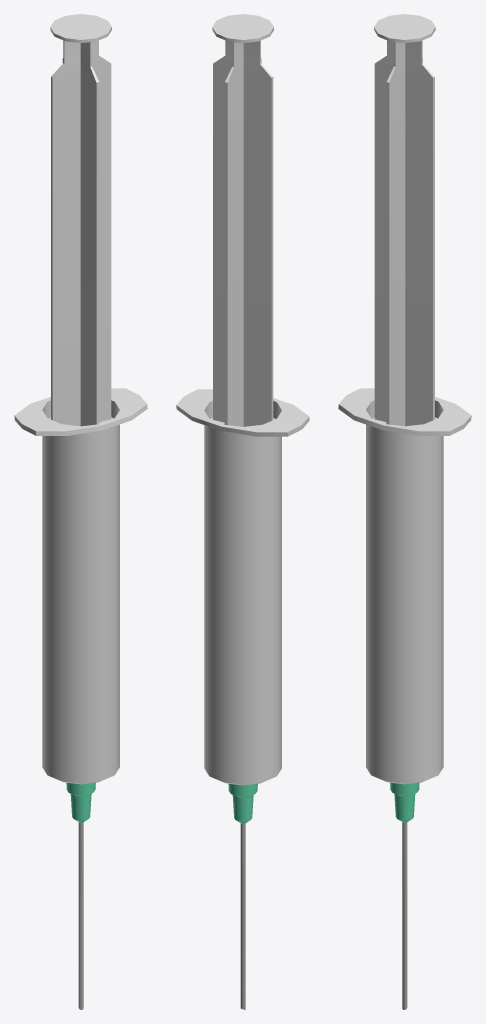
Rendered from Model_Syringe.fbx.
3 renders of one model, left to right at view 1: azimuth 30°, elevation 25°; view 2: azimuth 150°, elevation 25°; view 3: azimuth 330°, elevation 25°, orthographic.
Visible parts, largest first — view 1: Model_Syringe, Model_Syringe_Stick; view 2: Model_Syringe, Model_Syringe_Stick; view 3: Model_Syringe, Model_Syringe_Stick.
Part boxes in pixels (box(x1,y1,x2,y2)): Model_Syringe: box(14, 388, 147, 1009); Model_Syringe_Stick: box(49, 14, 113, 426); Model_Syringe: box(176, 389, 309, 1009); Model_Syringe_Stick: box(211, 14, 275, 426); Model_Syringe: box(338, 388, 471, 1009); Model_Syringe_Stick: box(372, 14, 436, 426).
Size of the model in its own units: 3.11 by 24.83 by 1.99.
